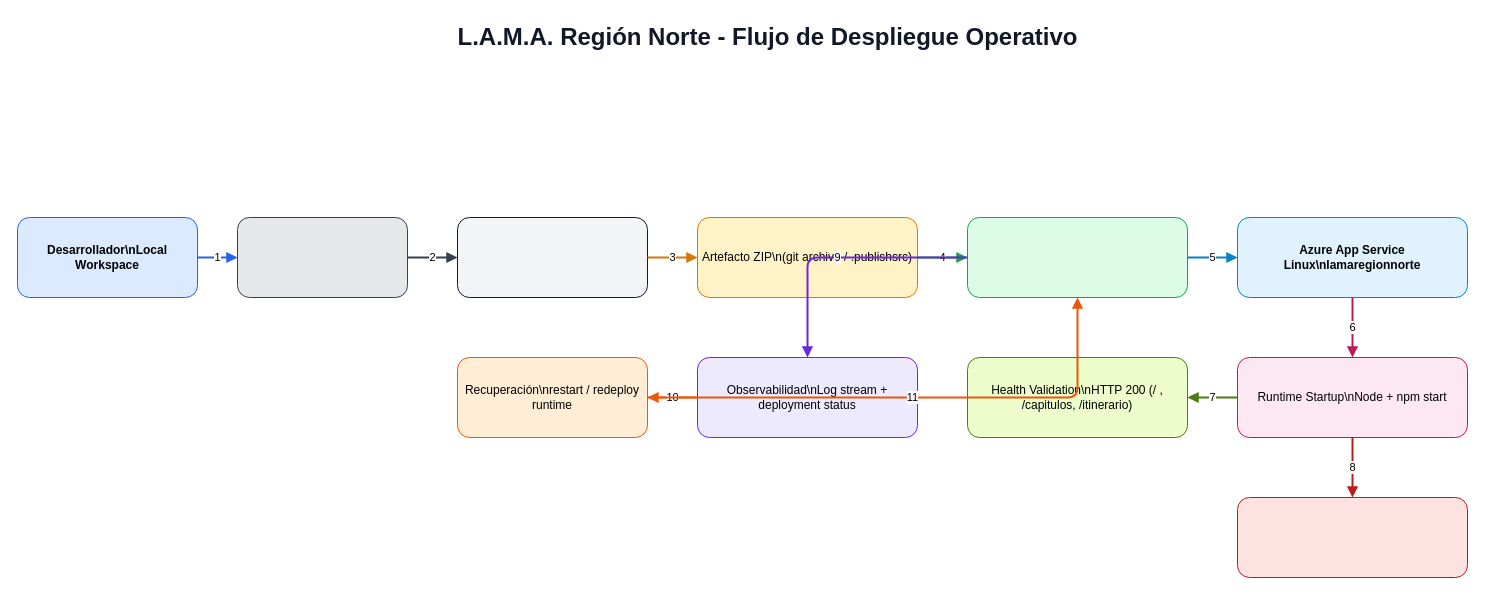
Image size: 1485x595. Some labels were removed from this diagram. The centre of each missing label's shape, as x and y in pixels:
Azure OneDeploy\n(az webapp deploy): the point at 1077,257
Azure SQL Database\nConexión vía Pool Global: the point at 1352,537
Git\ncommit / push: the point at 322,257
GitHub Repo\nmain: the point at 552,257
